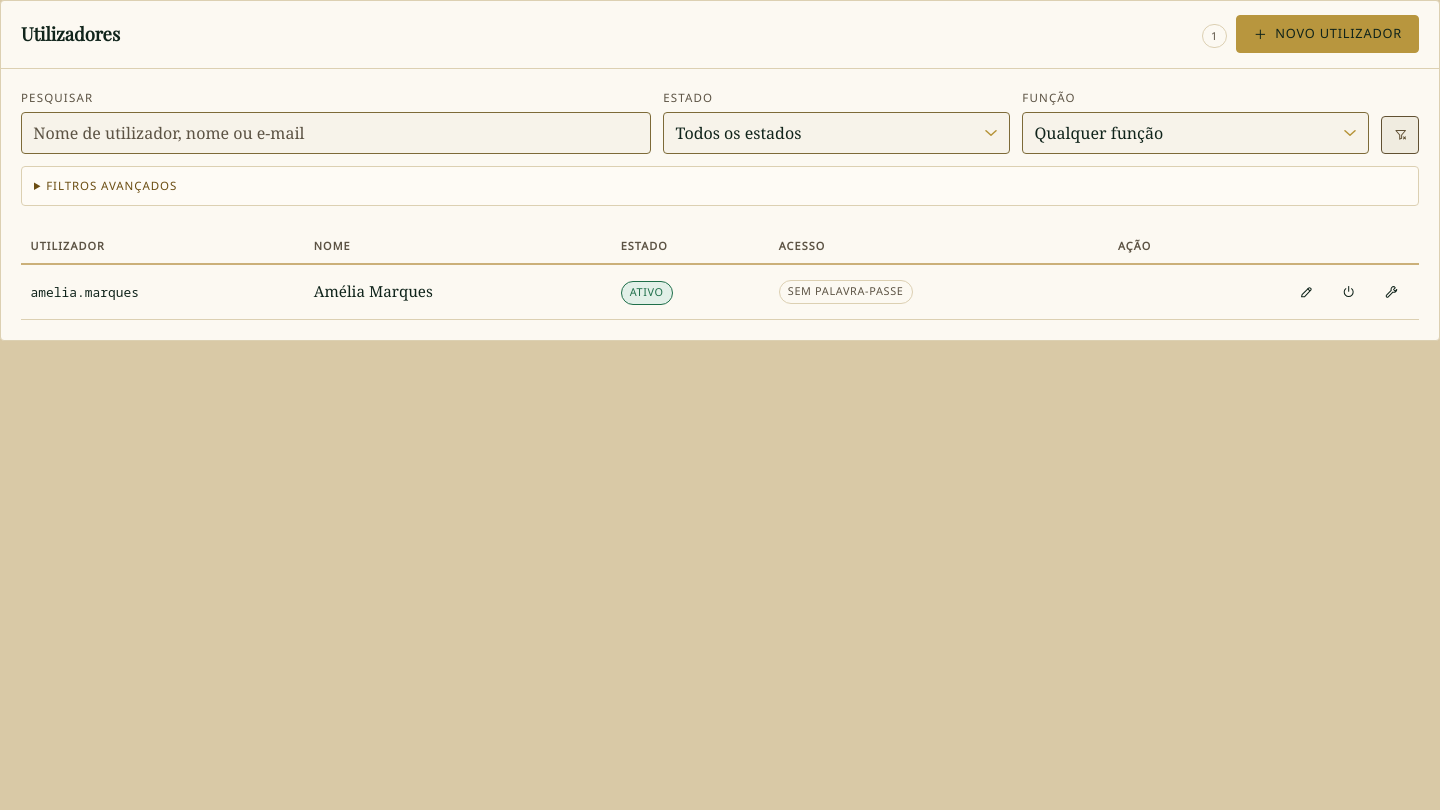
Test: UsersList (Configurações → Utilizadores) › toggles a user active/inactive via PATCH, once the confirmation is accepted
The image size is (1440, 810).
expect the text "amelia.marques" is shown: met, box [31, 283, 139, 301]
Step 1. Click the button with test id "user-toggle-active" → (1349, 292), box [1331, 274, 1367, 310]
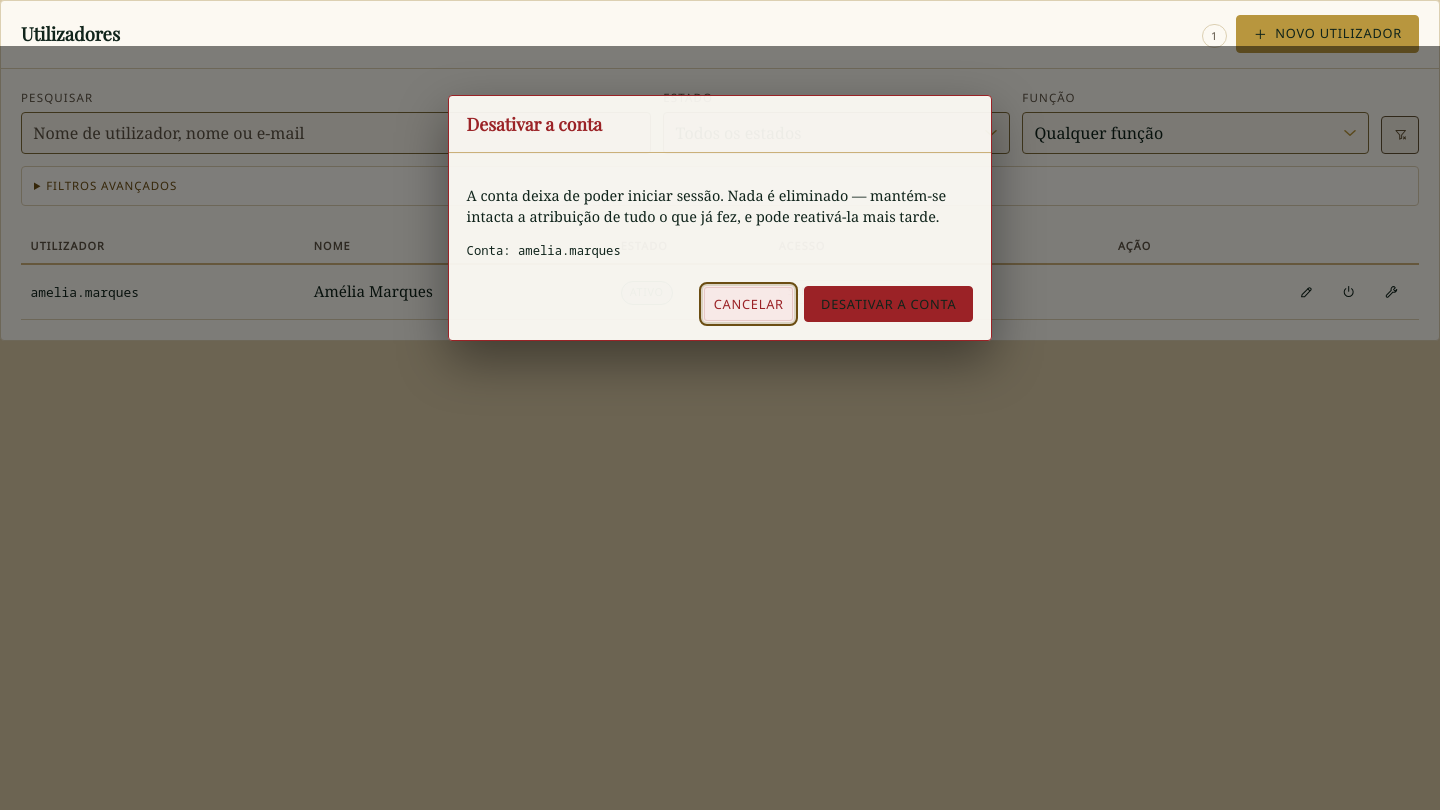
expect the submit button is enabled: met
Note: t68: the write now happens on the dialog's confirm, not on the row click.
Step 2. Click the submit button → (889, 304), box [804, 286, 973, 322]
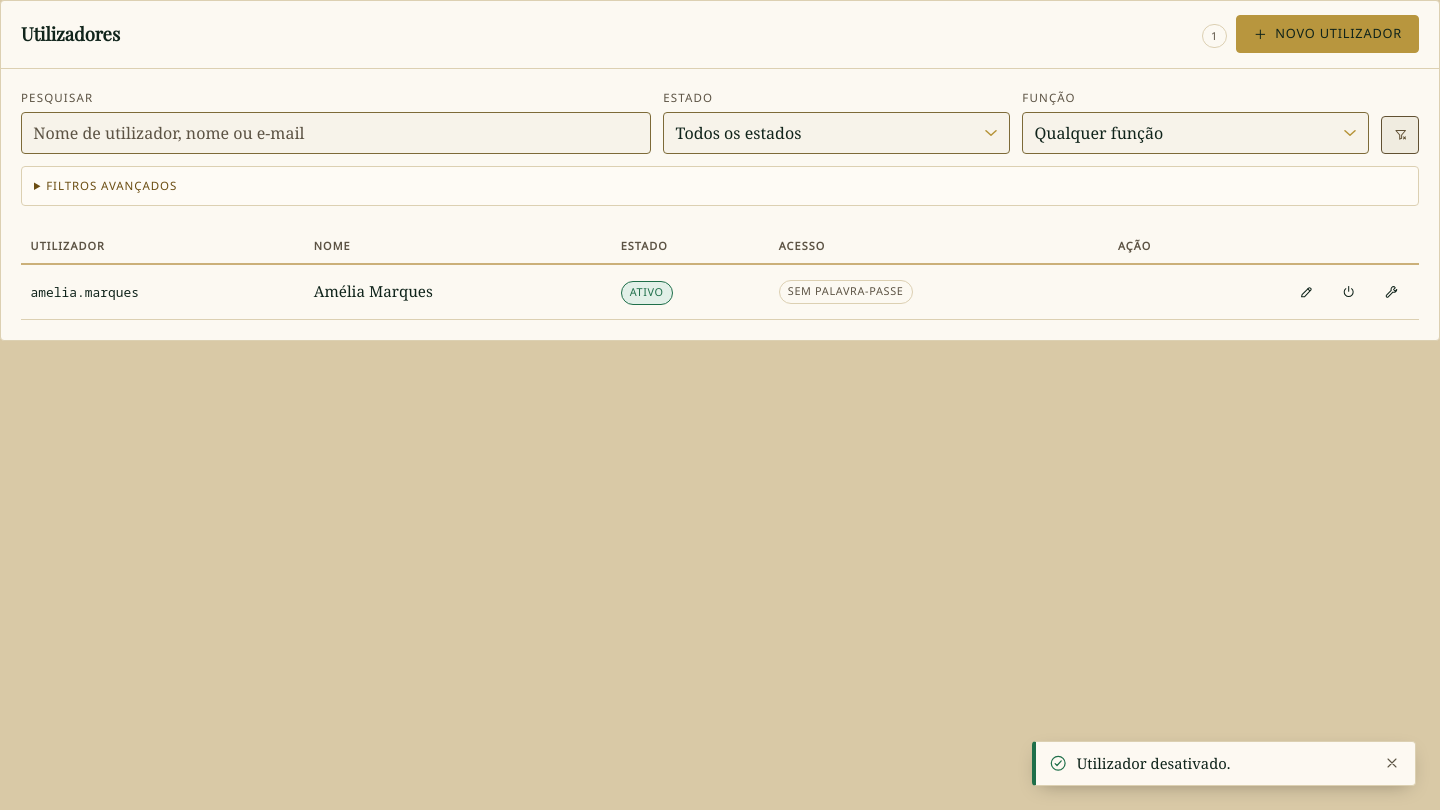
expect the text "Utilizador desativado." is shown: met, box [1077, 753, 1230, 773]
